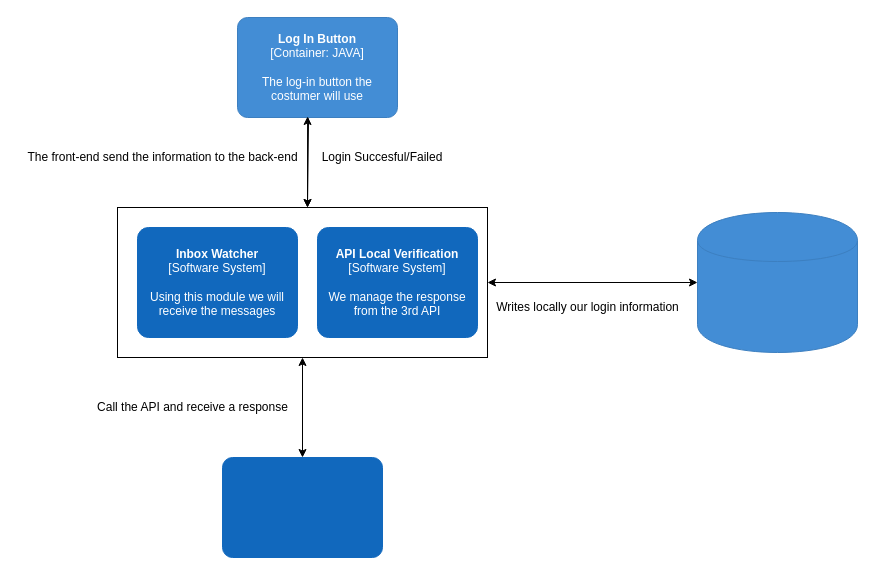
The diagram is 875 pixels wide and 575 high, and some of its shapes have lost their labels. The shapes that lost their labels are listed below. From the top down, each one's box as (x1, y1, x2, y2) in pixels, then its label:
(696, 212, 858, 352): Database [Container: Technology] Local Database
(222, 456, 382, 558): 3rd API [Software System] The API of existing messenger platforms
